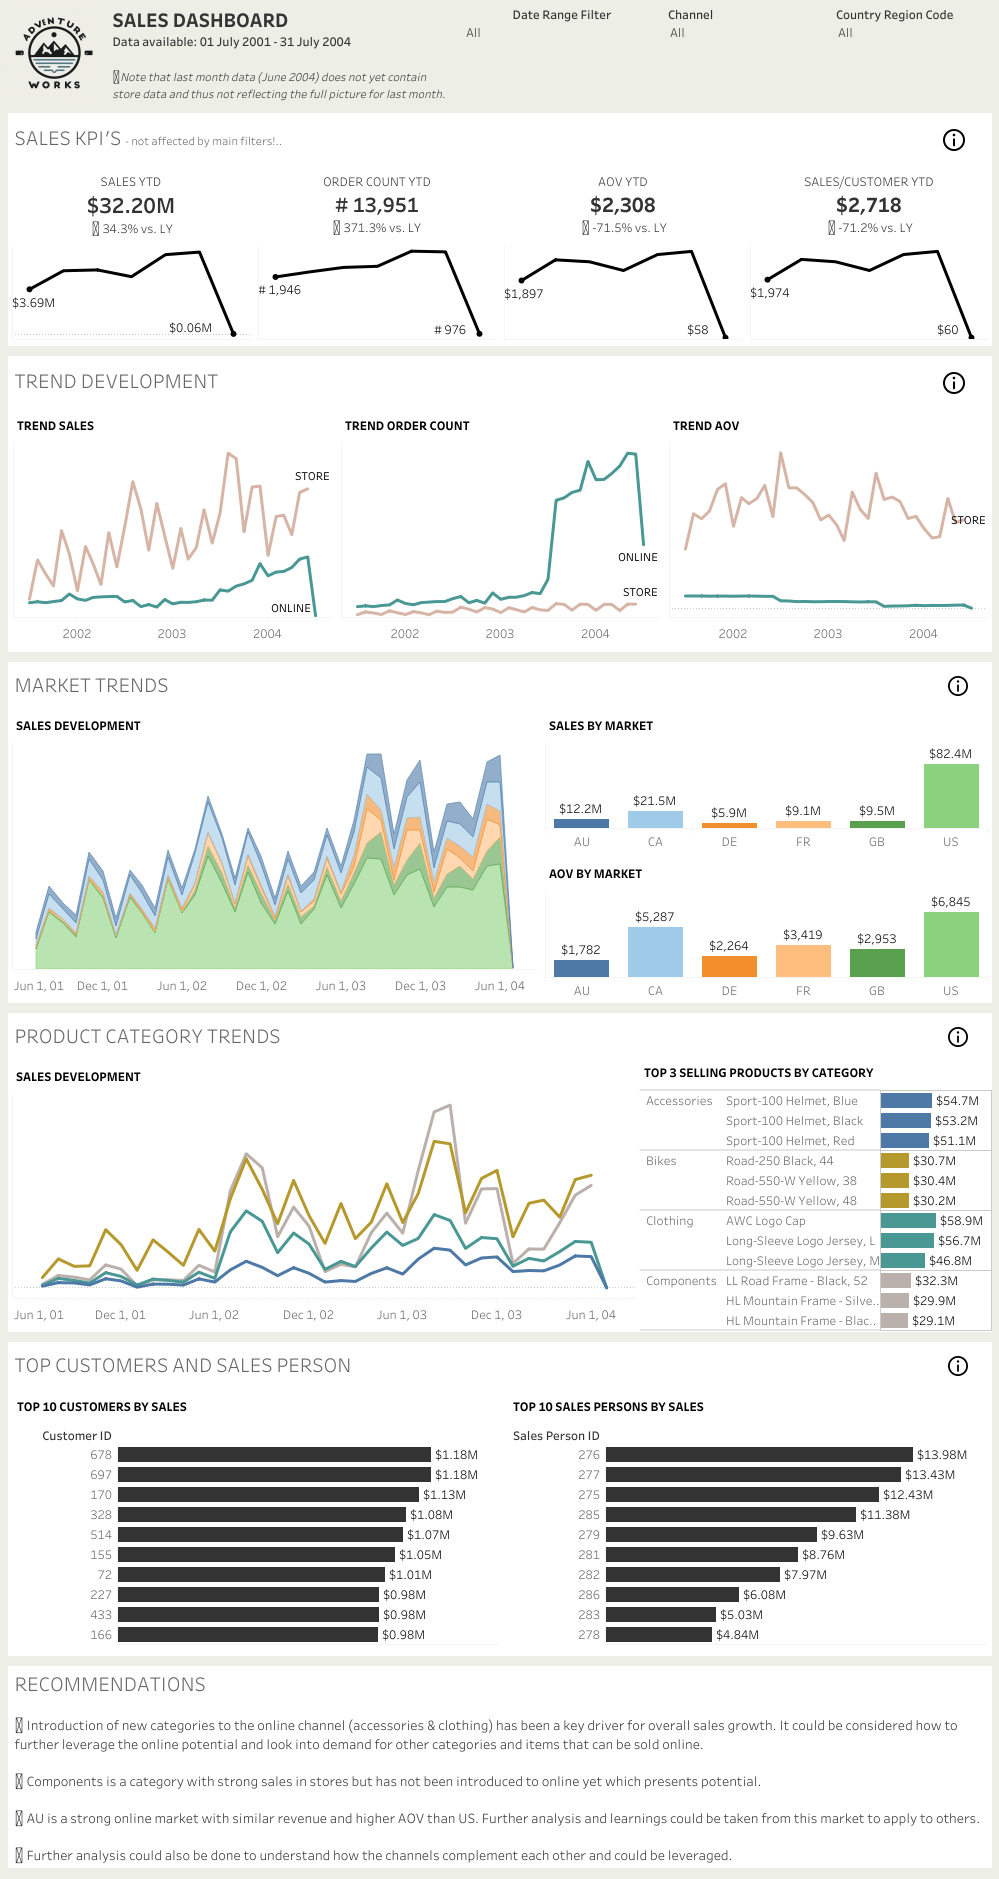

This screenshot's page, from the dashboard's own definition file:
{"tool":"tableau","page":{"name":"Insights","canvas":[1000,1880],"ordinal":0},"visuals":[{"type":"image","param":"Image/_35891a76-d9aa-4045-b5aa-90c1e3dc408a.jpeg","box":[0,0,106,108]},{"type":"text","box":[106,0,354,108]},{"type":"parameter","param":"[Parameters].[Parameter 1]","box":[460,0,204,108]},{"type":"filter","title":"Top Seller","param":"[federated.10macro0skxd3o0ztzdfi0ongndu].[none:channel:nk]","box":[664,0,168,108]},{"type":"filter","title":"Channel AOV","param":"[federated.10macro0skxd3o0ztzdfi0ongndu].[none:CountryRegionCode:nk]","box":[832,0,168,108]},{"type":"text","box":[8,113,924,49]},{"type":"worksheet","title":"Info KPIs","mark":"Shape","box":[932,113,60,49]},{"type":"worksheet","title":"KPI Sales","mark":"Line","rows":["TotalDue"],"cols":["OrderDate"],"box":[8,162,246,181]},{"type":"worksheet","title":"KPI Orders","mark":"Line","rows":["SalesOrderID (salesorderheader.csv)"],"cols":["OrderDate"],"box":[254,162,246,181]},{"type":"worksheet","title":"KPI AOV","mark":"Line","rows":["Calculation_4991536522638286848"],"cols":["OrderDate"],"box":[500,162,246,181]},{"type":"worksheet","title":"KPI Sales/Cust","mark":"Line","rows":["Calculation_4991536523877015566"],"cols":["OrderDate"],"box":[745.9,162,246,181]},{"type":"text","box":[8,356,924,49]},{"type":"worksheet","title":"Info Channels","mark":"Shape","box":[932,356,60,49]},{"type":"worksheet","title":"Channel Sales","mark":"Line","rows":["TotalDue"],"cols":["Calculation_4991536524271808536"],"box":[8,405,328,247]},{"type":"worksheet","title":"Channel Orders","mark":"Line","rows":["Calculation_4991536522954780674"],"cols":["Calculation_4991536524271808536"],"box":[336,405,328,247]},{"type":"worksheet","title":"Channel AOV","mark":"Automatic","rows":["Calculation_4991536522638286848"],"cols":["Calculation_4991536524271808536"],"box":[664,405,328,247]},{"type":"text","box":[8,662,924,44]},{"type":"worksheet","title":"Info Markets","mark":"Shape","box":[932,662,60,44]},{"type":"worksheet","title":"Markets Dev","mark":"Area","rows":["TotalDue"],"cols":["Calculation_4991536524271808536"],"box":[8,706,533,297]},{"type":"worksheet","title":"Markets Sales","mark":"Automatic","rows":["TotalDue"],"cols":["CountryRegionCode"],"box":[541,706,451,148.5]},{"type":"worksheet","title":"Markets AOV","mark":"Automatic","rows":["TotalDue"],"cols":["CountryRegionCode"],"box":[541,854.5,451,148.5]},{"type":"text","box":[8,1013,924,44]},{"type":"worksheet","title":"Info Categories","mark":"Shape","box":[932,1013,60,44]},{"type":"worksheet","title":"Cat Dev","mark":"Automatic","rows":["TotalDue"],"cols":["Calculation_4991536524271808536"],"box":[8,1057,632,275]},{"type":"worksheet","title":"Top by Cat","mark":"Bar","rows":["Name (productcategory.csv)","Name (product.csv)"],"cols":["TotalDue"],"box":[640,1057,352,275]},{"type":"text","box":[8,1342,924,44]},{"type":"worksheet","title":"Info Top Sellers","mark":"Shape","box":[932,1342,60,44]},{"type":"worksheet","title":"Top Cust","mark":"Bar","rows":["CustomerID"],"cols":["TotalDue"],"box":[8,1386,496,270]},{"type":"worksheet","title":"Top Seller","mark":"Bar","rows":["SalesPersonID"],"cols":["TotalDue"],"box":[504,1386,488,270]},{"type":"text","box":[8,1666,984,211]}]}

Visuals, with their boxes in screenshot pixels (x1, y1, x2, y2), scaled from the page's 1000x1880 canvas onto the 999x1879 screenshot:
image: bbox(0, 0, 106, 108)
text: bbox(106, 0, 460, 108)
parameter: bbox(460, 0, 663, 108)
"Top Seller" filter: bbox(663, 0, 831, 108)
"Channel AOV" filter: bbox(831, 0, 998, 108)
text: bbox(8, 113, 931, 162)
"Info KPIs" worksheet (Shape marks): bbox(931, 113, 991, 162)
"KPI Sales" worksheet (Line marks): bbox(8, 162, 254, 343)
"KPI Orders" worksheet (Line marks): bbox(254, 162, 500, 343)
"KPI AOV" worksheet (Line marks): bbox(500, 162, 745, 343)
"KPI Sales/Cust" worksheet (Line marks): bbox(745, 162, 991, 343)
text: bbox(8, 356, 931, 405)
"Info Channels" worksheet (Shape marks): bbox(931, 356, 991, 405)
"Channel Sales" worksheet (Line marks): bbox(8, 405, 336, 652)
"Channel Orders" worksheet (Line marks): bbox(336, 405, 663, 652)
"Channel AOV" worksheet: bbox(663, 405, 991, 652)
text: bbox(8, 662, 931, 706)
"Info Markets" worksheet (Shape marks): bbox(931, 662, 991, 706)
"Markets Dev" worksheet (Area marks): bbox(8, 706, 540, 1002)
"Markets Sales" worksheet: bbox(540, 706, 991, 854)
"Markets AOV" worksheet: bbox(540, 854, 991, 1002)
text: bbox(8, 1012, 931, 1056)
"Info Categories" worksheet (Shape marks): bbox(931, 1012, 991, 1056)
"Cat Dev" worksheet: bbox(8, 1056, 639, 1331)
"Top by Cat" worksheet (Bar marks): bbox(639, 1056, 991, 1331)
text: bbox(8, 1341, 931, 1385)
"Info Top Sellers" worksheet (Shape marks): bbox(931, 1341, 991, 1385)
"Top Cust" worksheet (Bar marks): bbox(8, 1385, 503, 1655)
"Top Seller" worksheet (Bar marks): bbox(503, 1385, 991, 1655)
text: bbox(8, 1665, 991, 1876)
